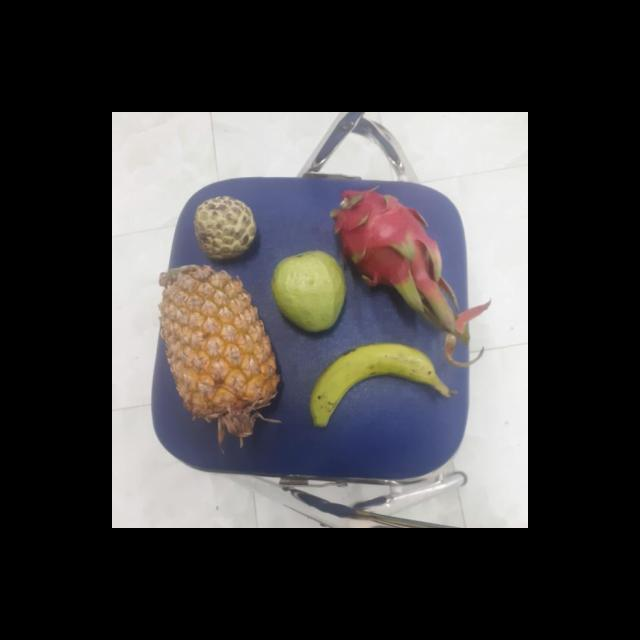Sakya fruit: (194, 196, 260, 260)
banana: (310, 344, 454, 422)
guava: (272, 251, 348, 332)
pineapple: (162, 264, 280, 422)
pitaya: (336, 188, 438, 292)
